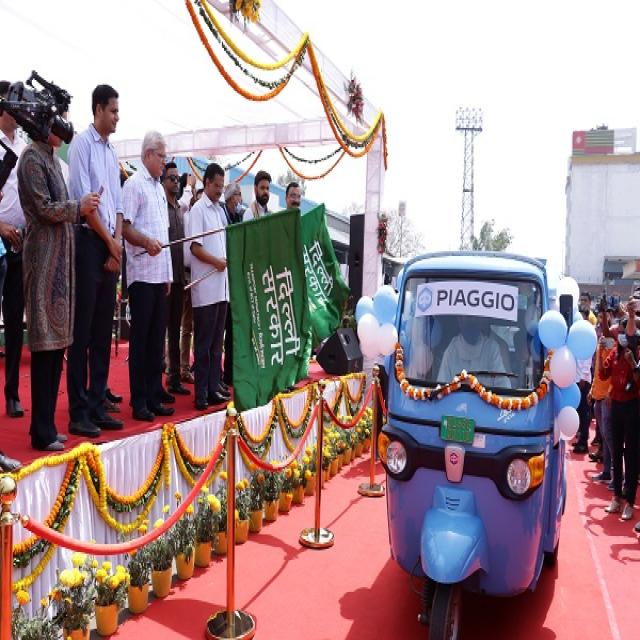autorickshaw: (379, 253, 566, 638)
